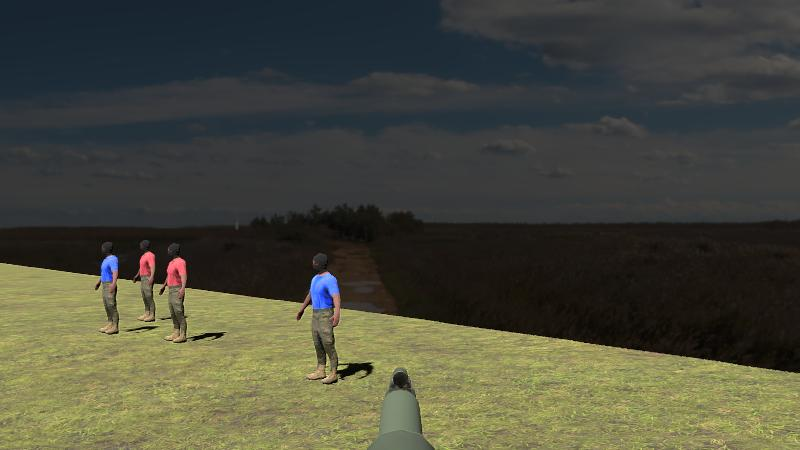Human: (296, 251, 341, 384), (160, 242, 187, 344), (95, 241, 119, 335), (133, 239, 156, 323)
